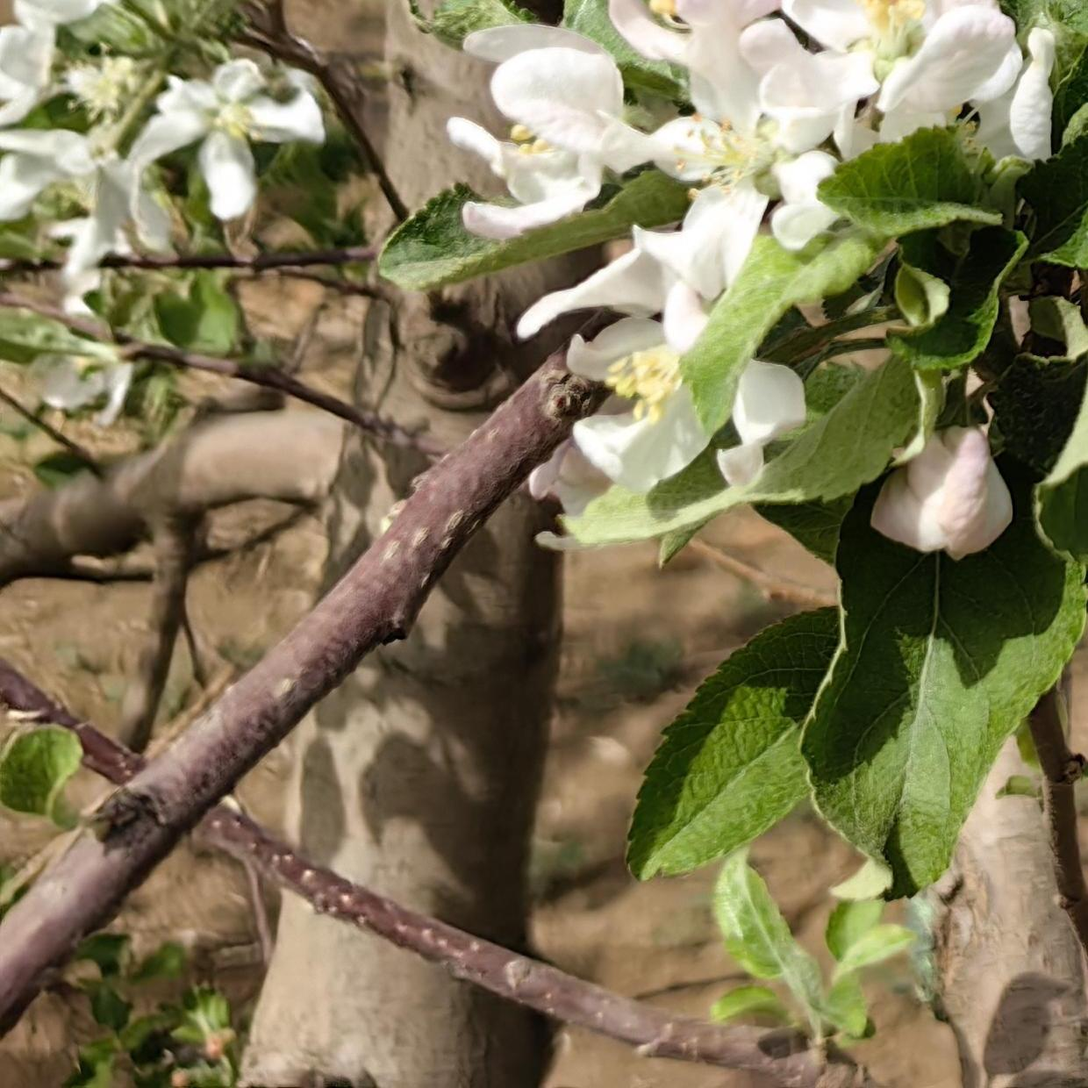apple_flower: (444, 0, 1049, 512), (0, 0, 314, 313), (25, 337, 125, 407)
